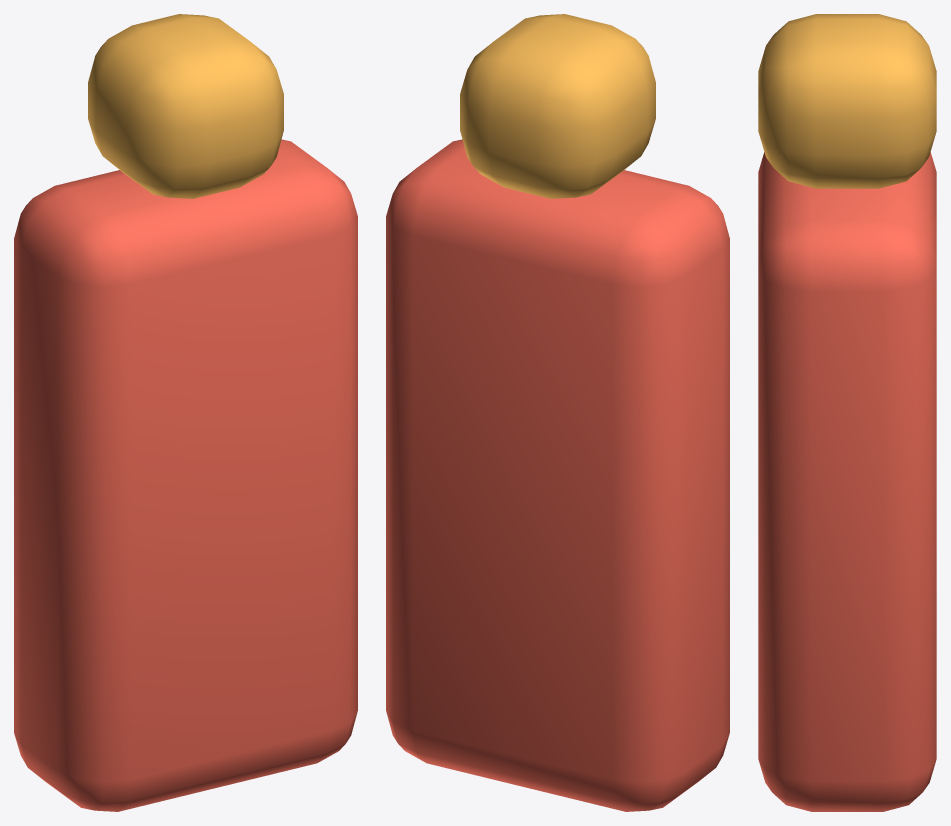
The model's file is s02_target.glb.
The picture shows the model from 3 angles, left to right: view 1: azimuth 30°, elevation 25°; view 2: azimuth 150°, elevation 25°; view 3: azimuth 270°, elevation 25°; orthographic projection.
Parts seen in each view (by area): view 1: TargetBody, TargetHead; view 2: TargetBody, TargetHead; view 3: TargetBody, TargetHead.
Part boxes in pixels (x1,y1,x2,y2): TargetBody: (14,139,357,811); TargetHead: (88,14,283,198); TargetBody: (386,139,729,811); TargetHead: (460,14,655,198); TargetBody: (758,152,936,811); TargetHead: (758,14,936,188).
Size of the model in its own units: 0.75 by 1.8 by 0.4.
